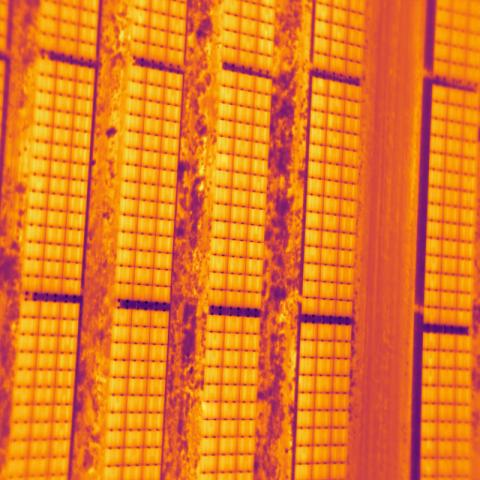fault: (216, 152, 232, 172), (202, 399, 217, 419)
